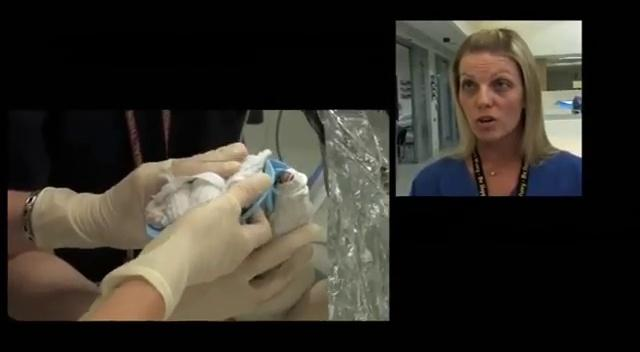nurse: (408, 27, 582, 197)
